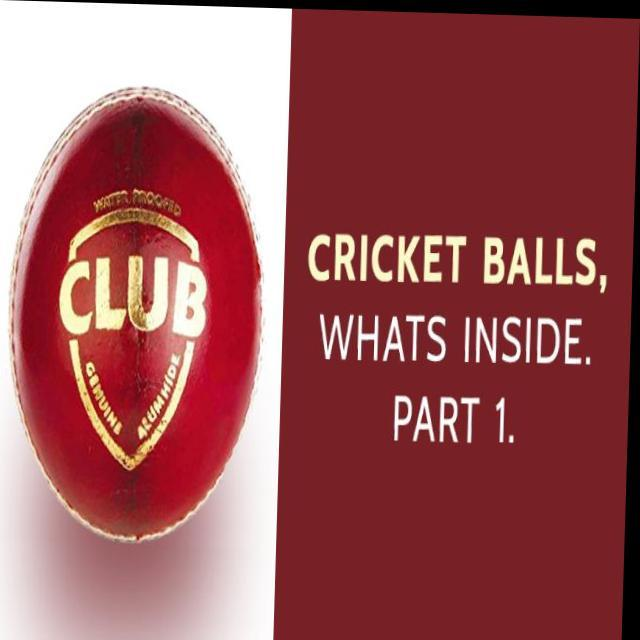cricket ball: (10, 85, 269, 543)
